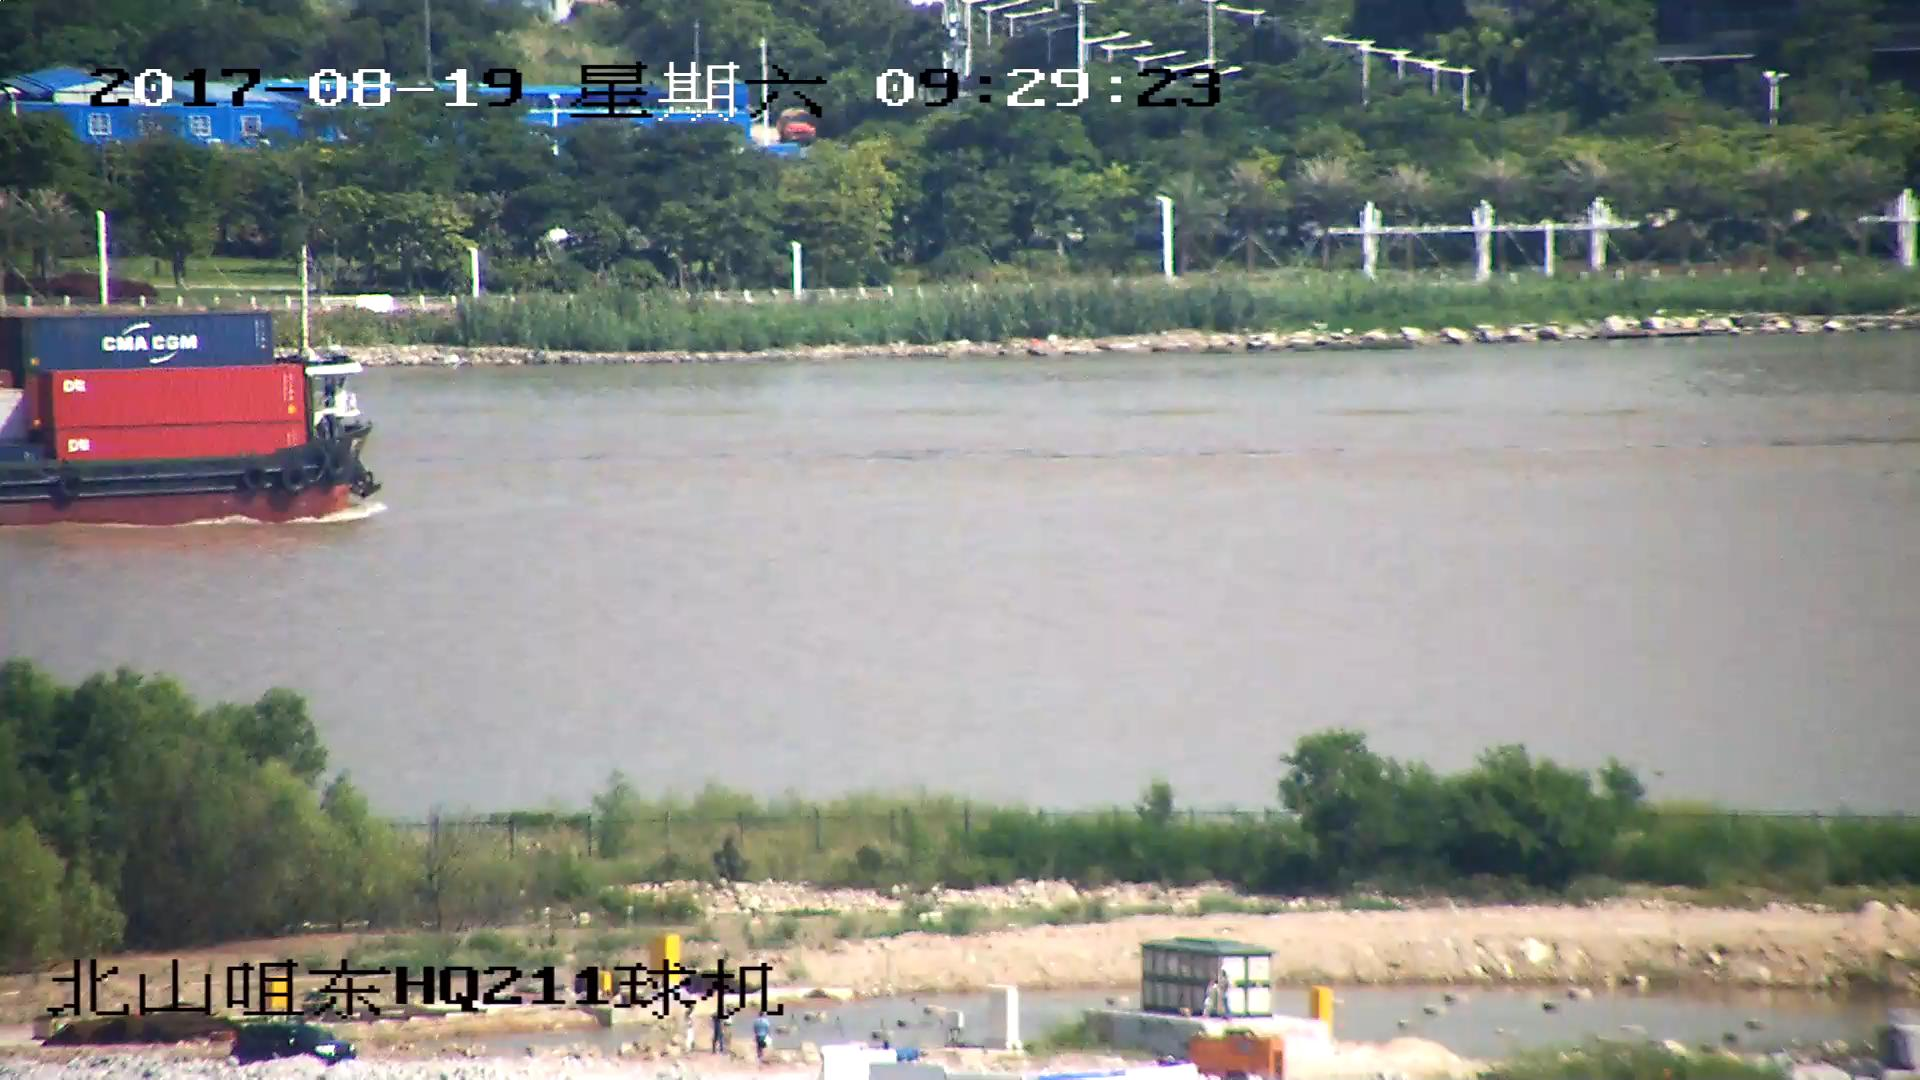container ship: (1, 249, 371, 527)
